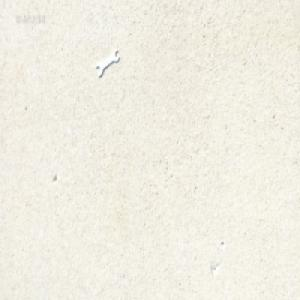Wrench: (95, 48, 119, 76)
